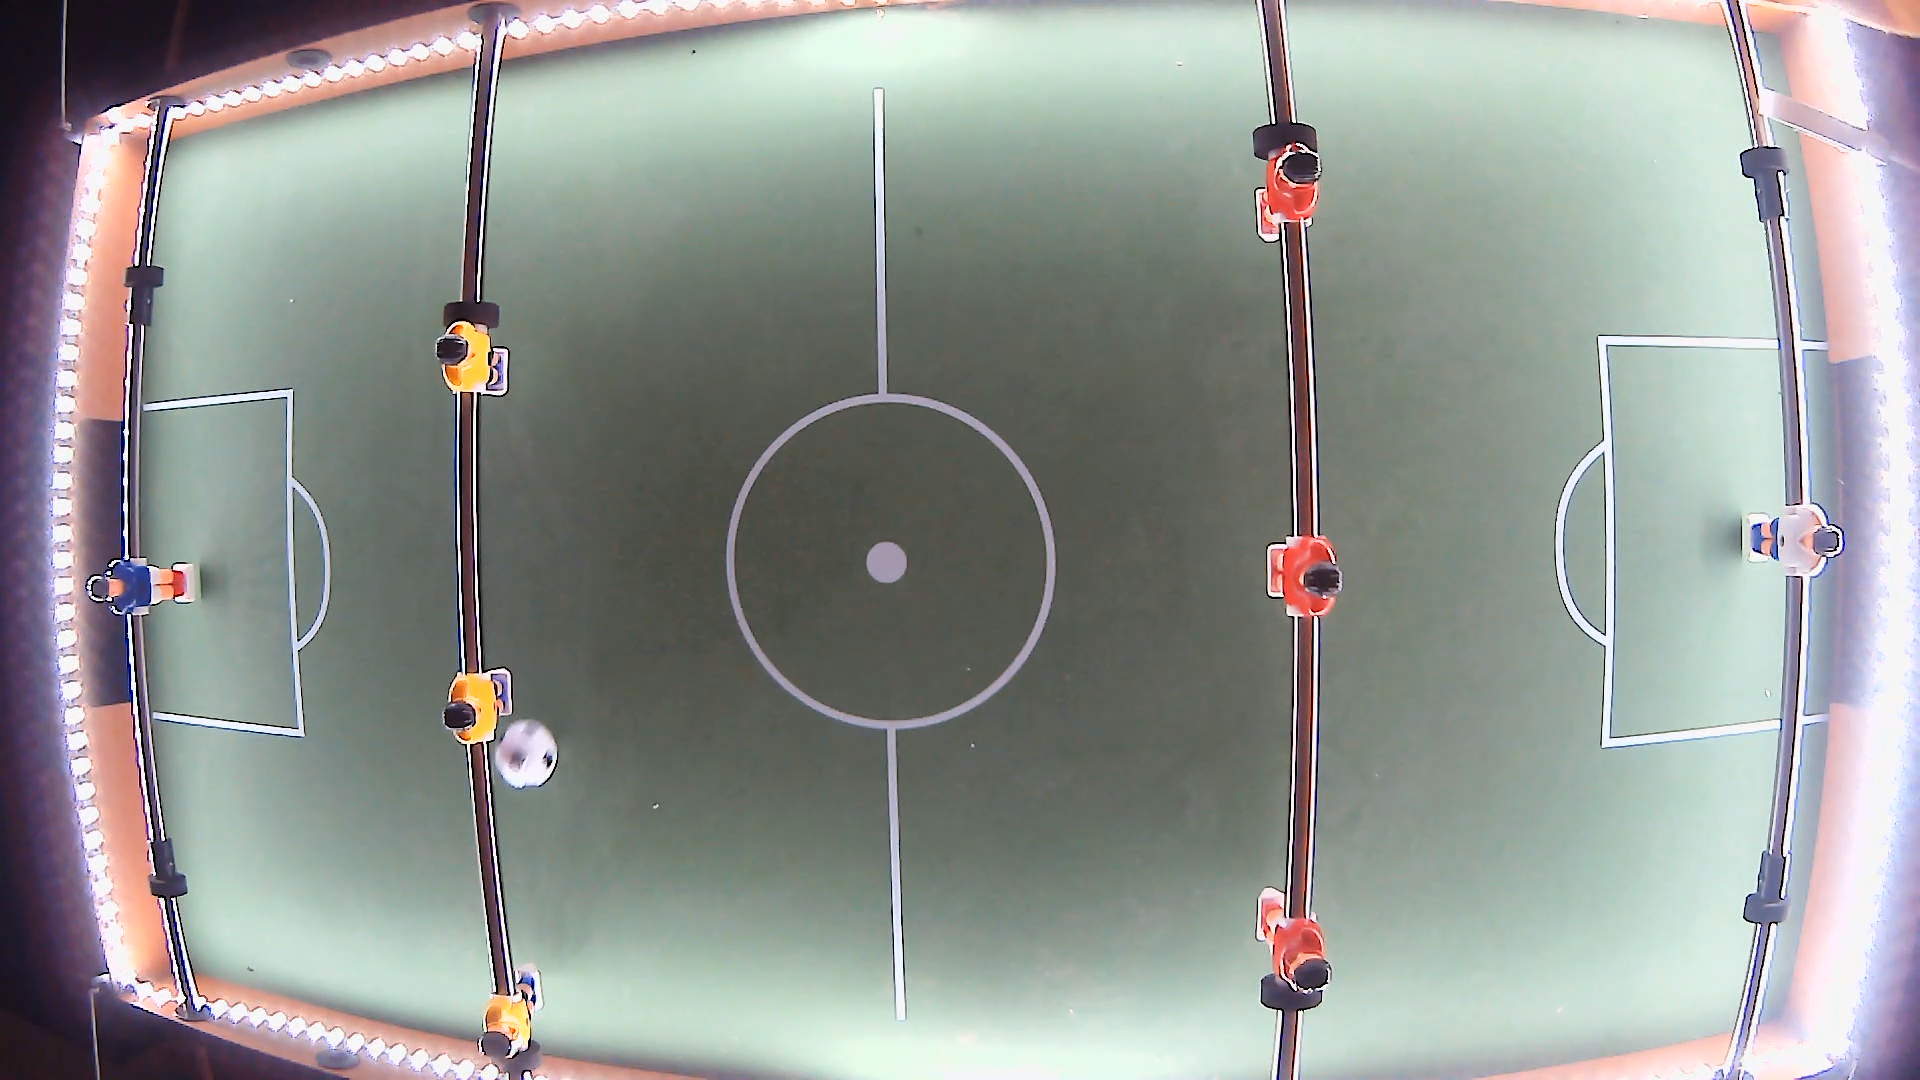Foosball: (493, 719, 558, 789)
